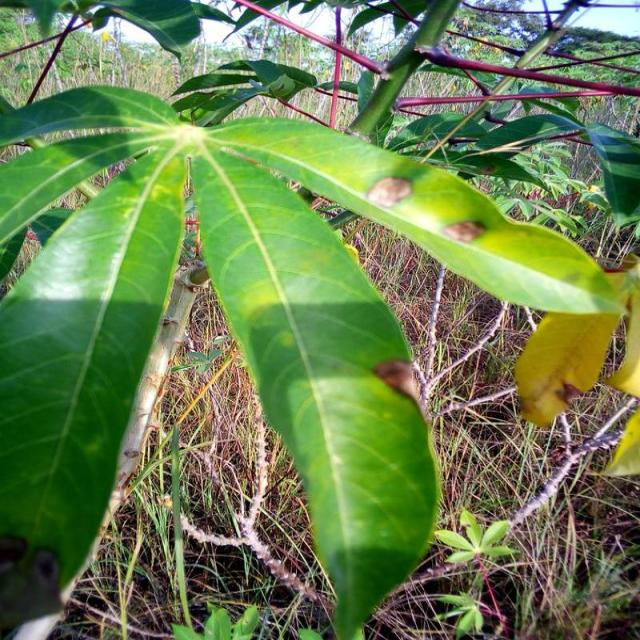cassava leaf: (2, 81, 630, 637), (190, 129, 442, 638), (1, 130, 190, 632)
